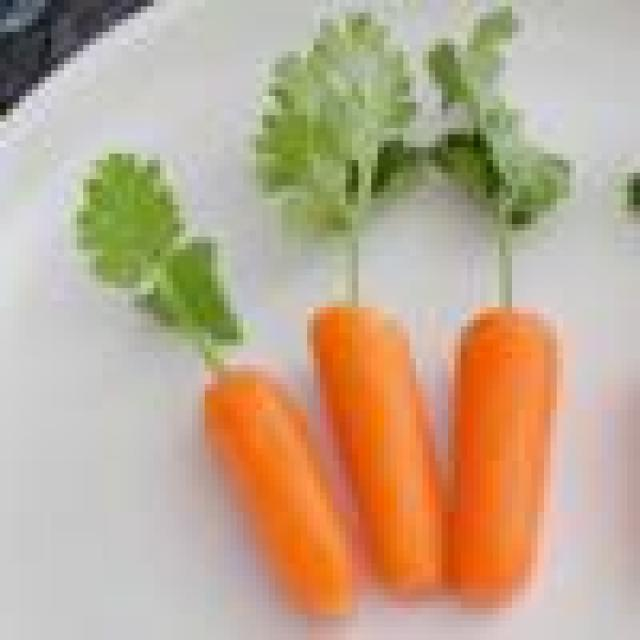Fresh_Carrot: (305, 304, 452, 604), (196, 357, 342, 640), (453, 298, 566, 569)
